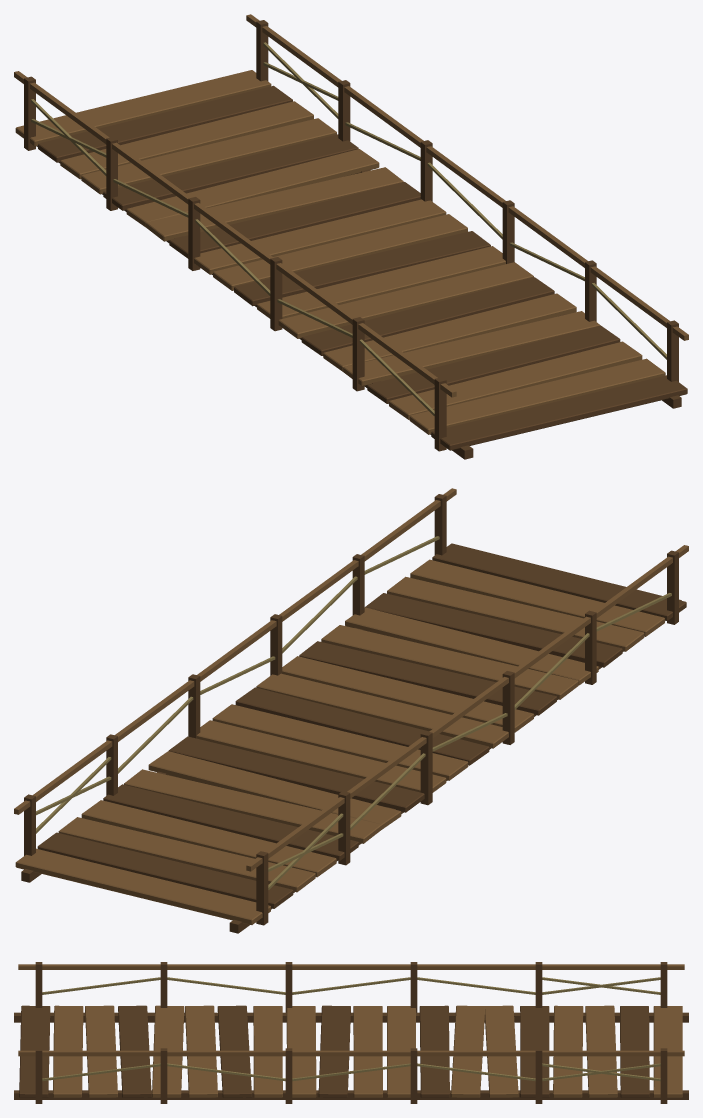
The model's file is env_bridge.glb.
The picture shows the model from 3 angles, top to bottom: view 1: azimuth 30°, elevation 25°; view 2: azimuth 150°, elevation 25°; view 3: azimuth 270°, elevation 25°; orthographic projection. The views are drawn at different scales.
Parts seen in each view (by area): view 1: bridge; view 2: bridge; view 3: bridge.
Boxes of the visible parts, bbox=[...] form: bridge: bbox=[14, 14, 688, 459]; bridge: bbox=[14, 488, 688, 933]; bridge: bbox=[14, 962, 688, 1103].
Bounding box in the file's own units: 5.06 × 1.41 × 16.2.
1 material, 1 textured.
